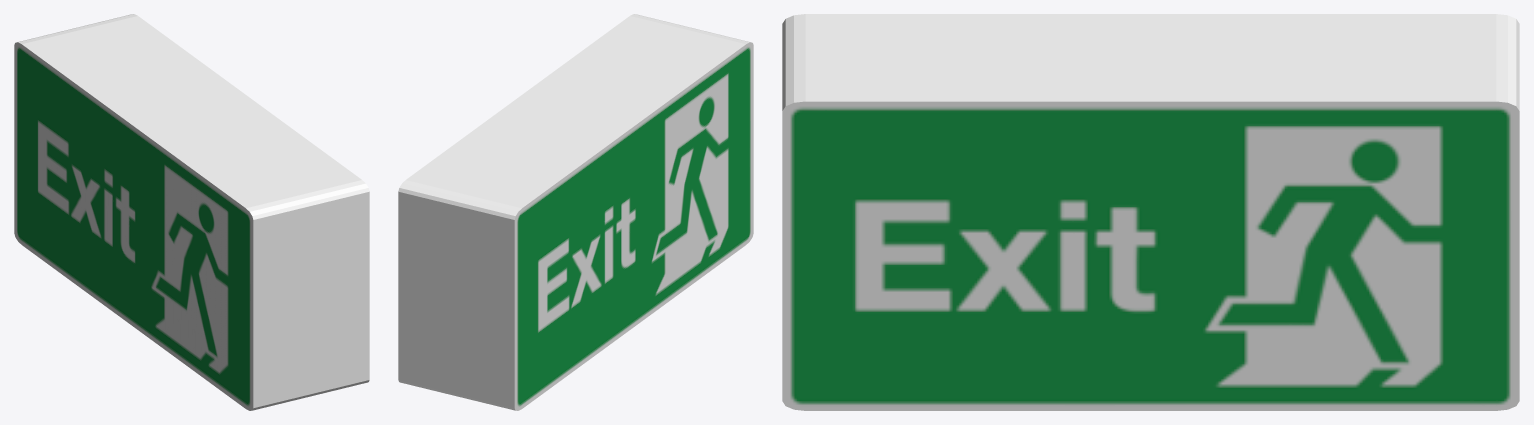
The model's file is DecalExit.fbx.
3 views of the same model, side by side, from view 1: azimuth 30°, elevation 25°; view 2: azimuth 150°, elevation 25°; view 3: azimuth 270°, elevation 25° (orthographic). The views are drawn at different scales.
Visible parts, largest first — view 1: DecalExit; view 2: DecalExit; view 3: DecalExit.
Boxes of the visible parts, box(x1,y1,x2,y2) form: DecalExit: box(14, 14, 369, 410); DecalExit: box(398, 14, 753, 410); DecalExit: box(782, 14, 1519, 410).
Bounding box in the file's own units: 0.0026 × 0.00429 × 0.00926.
